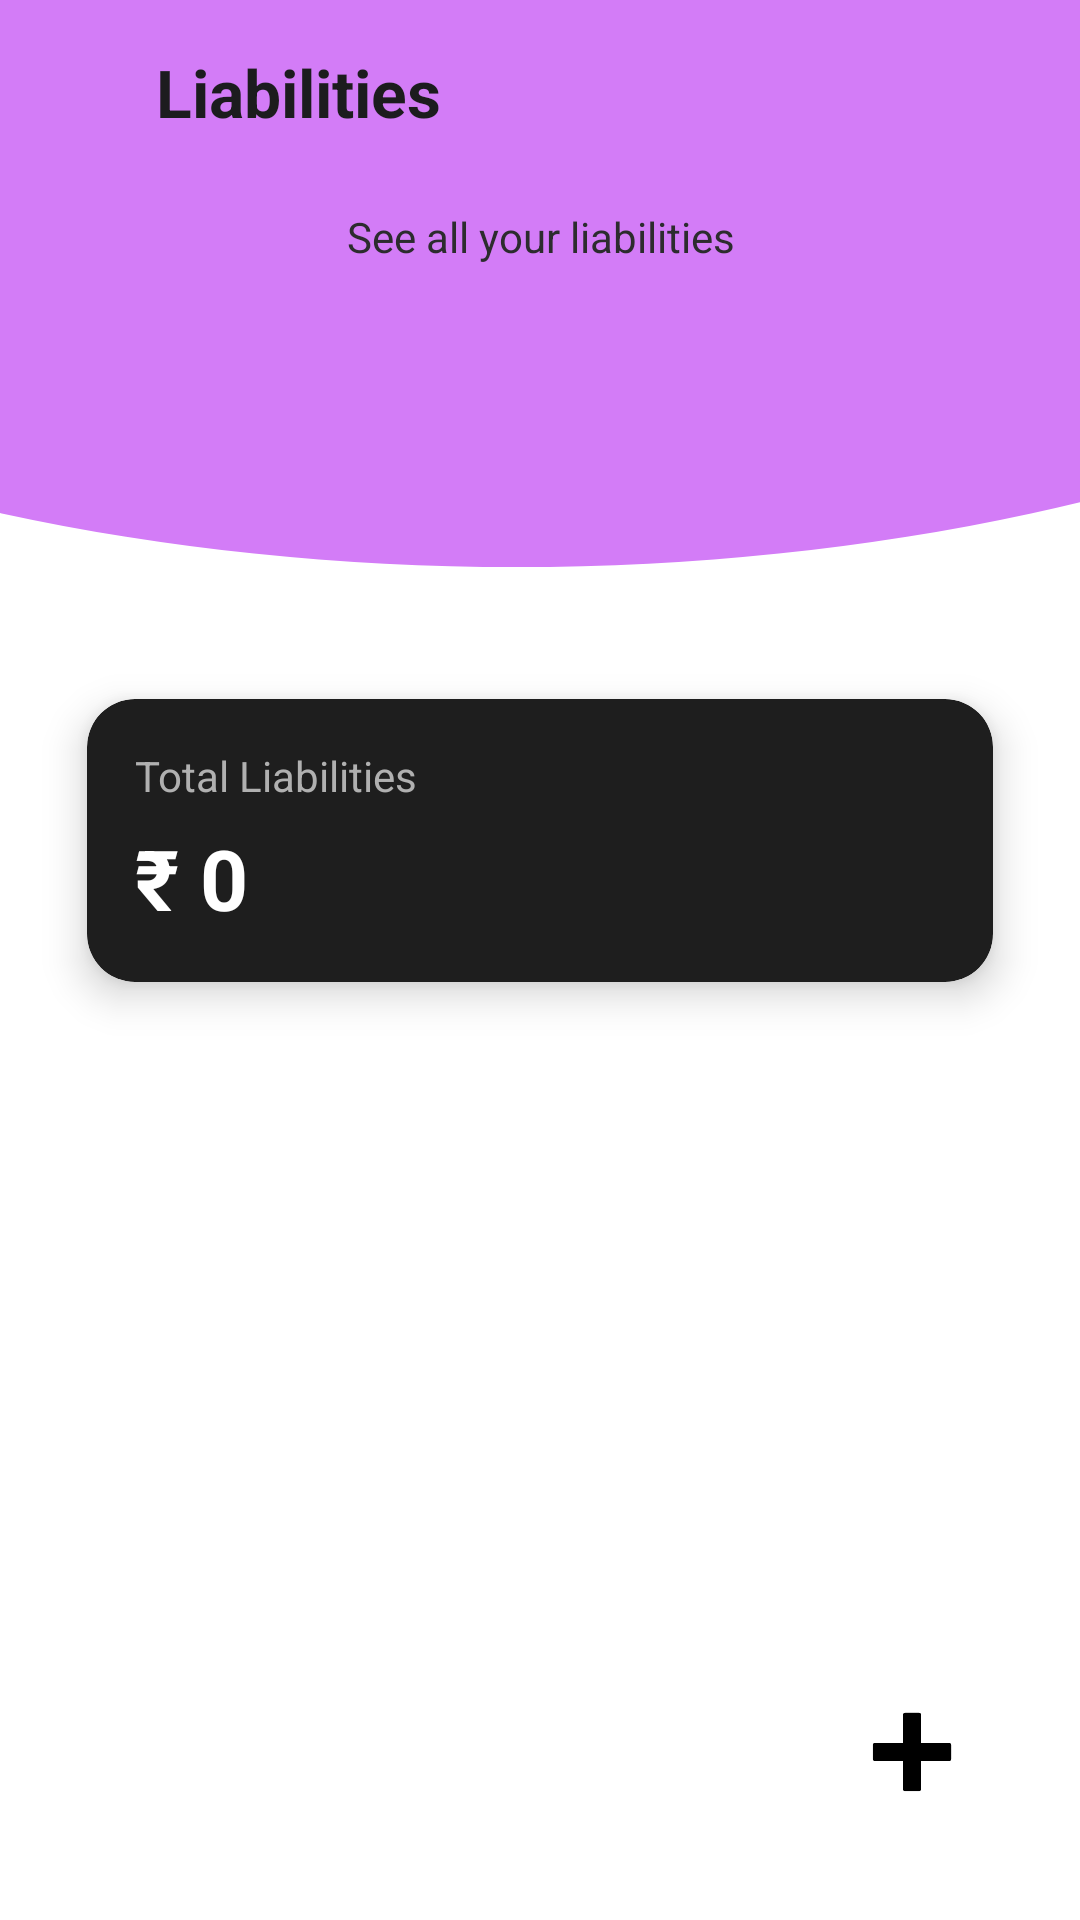

Point at icon controls on the screen. Image size 1080x1920, points as (x,y).
Add Liability: (912,1751)
